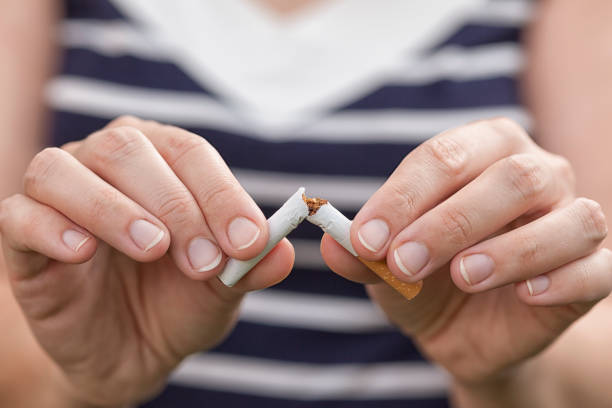cigarette: (304, 198, 423, 300), (218, 186, 315, 288)
